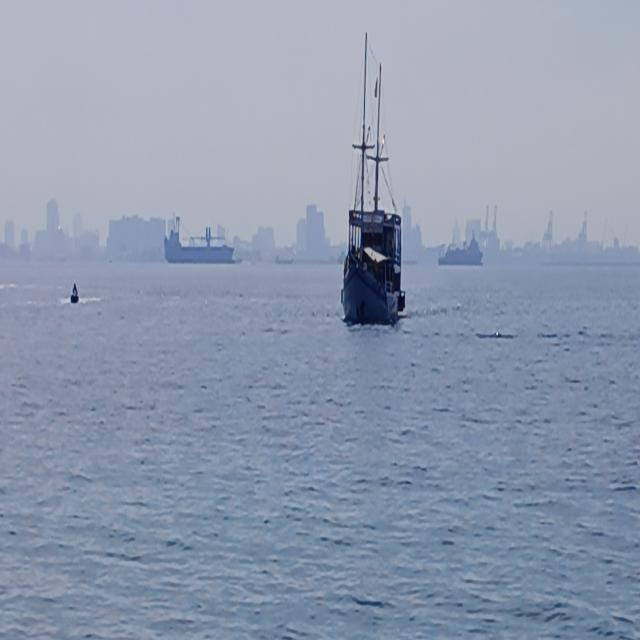Fishing Boat: (270, 31, 441, 364)
